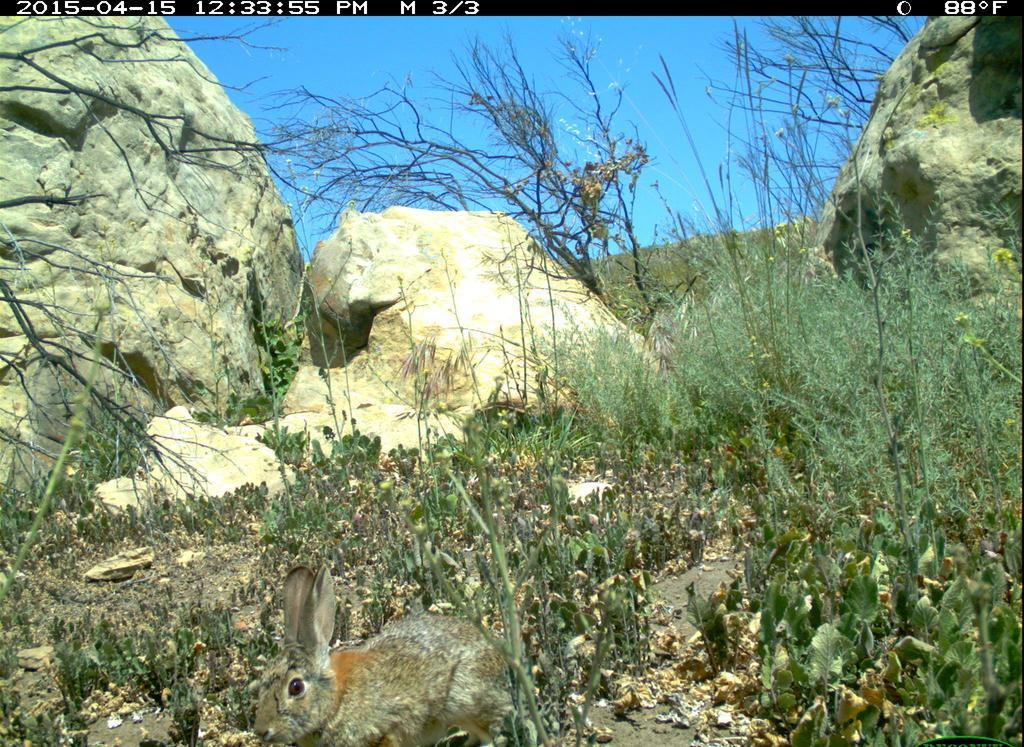rabbit: (230, 566, 534, 747)
